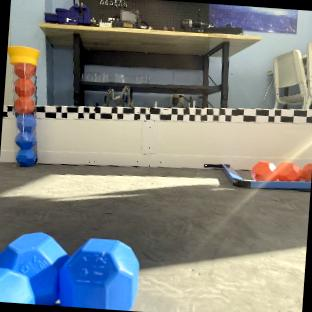Parking-R: (204, 163, 310, 188)
V5_BLUE: (0, 232, 137, 310), (15, 114, 35, 164)
V5_RED: (252, 160, 311, 182), (14, 63, 34, 112)
